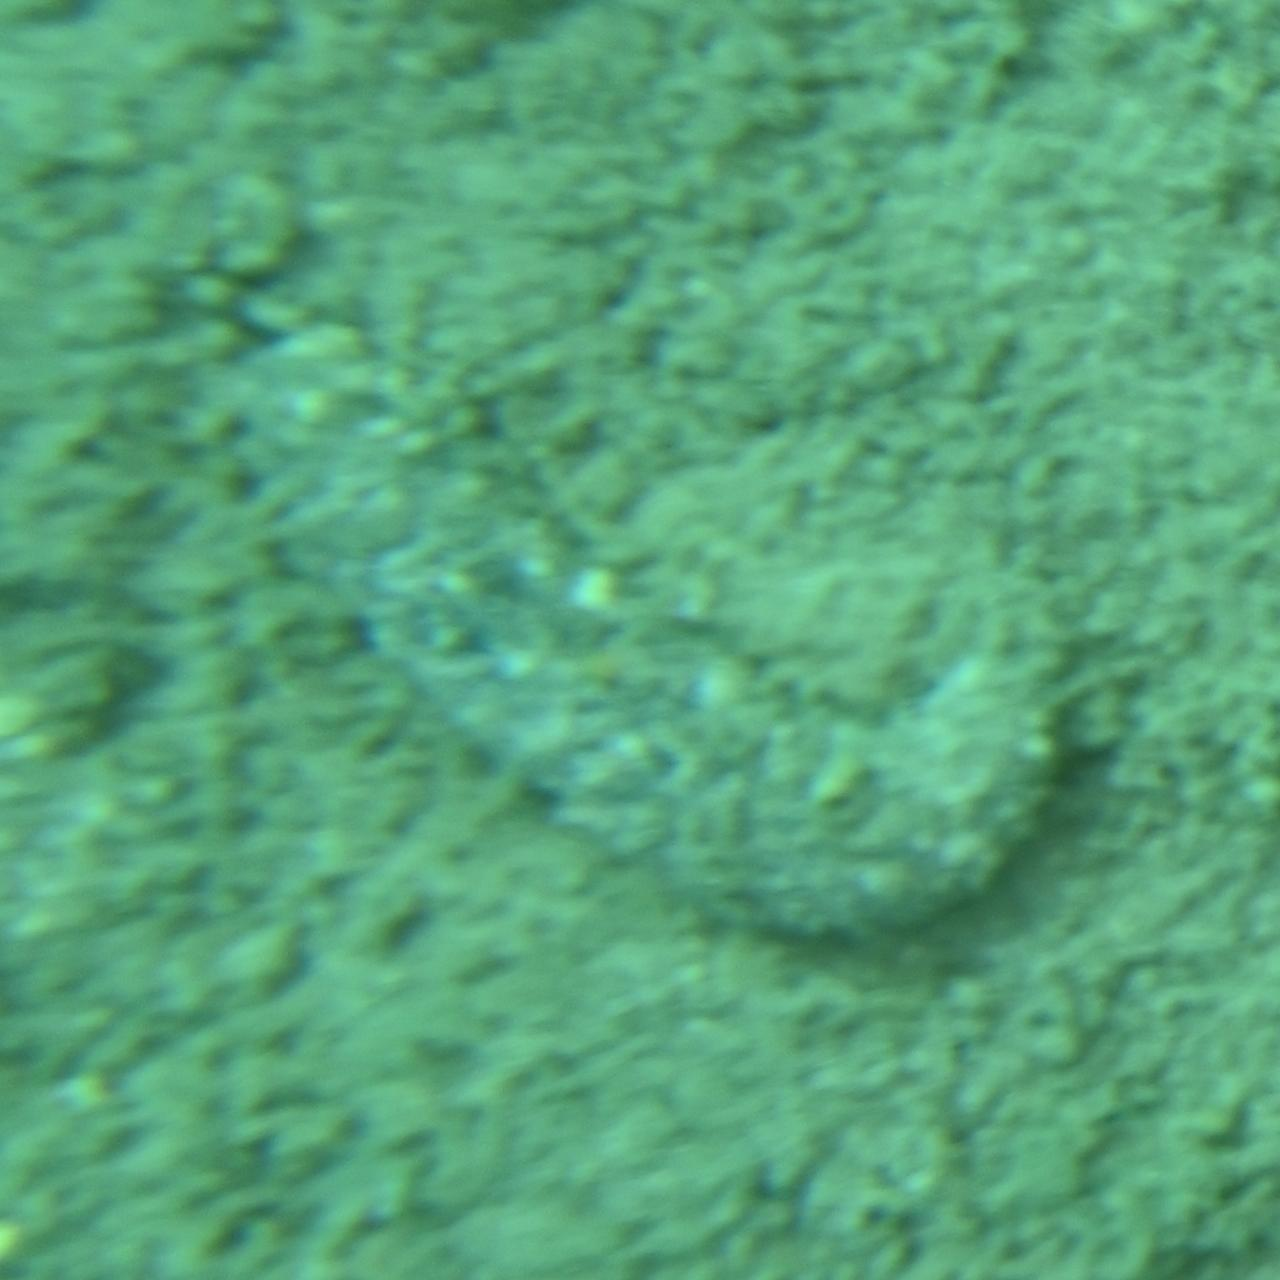Holothuria tubulosa: (168, 332, 1089, 948)
